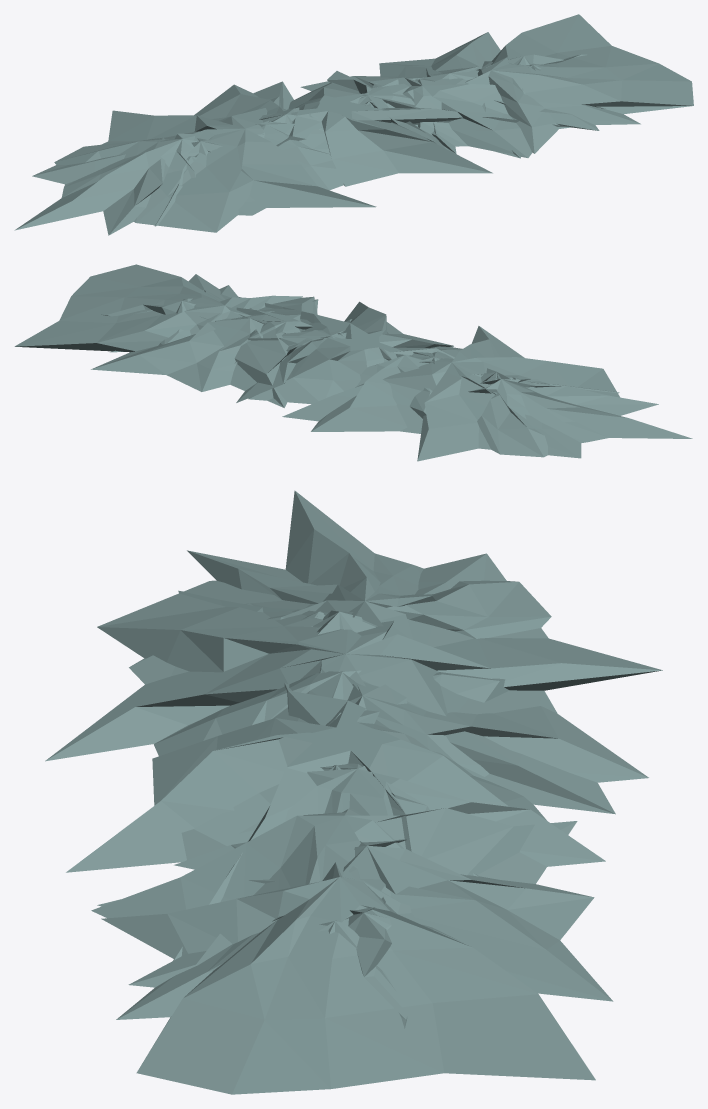
File: range_canyon_far.glb
The picture shows the model from 3 angles, top to bottom: view 1: azimuth 30°, elevation 25°; view 2: azimuth 150°, elevation 25°; view 3: azimuth 270°, elevation 25°; orthographic projection. The views are drawn at different scales.
Parts seen in each view (by area): view 1: land; view 2: land; view 3: land.
Boxes of the visible parts, x1,y1,x2,y2 form: land: (14, 14, 693, 235); land: (14, 264, 692, 461); land: (45, 490, 662, 1094).
Size of the model in its own units: 1036 by 48.14 by 448.
